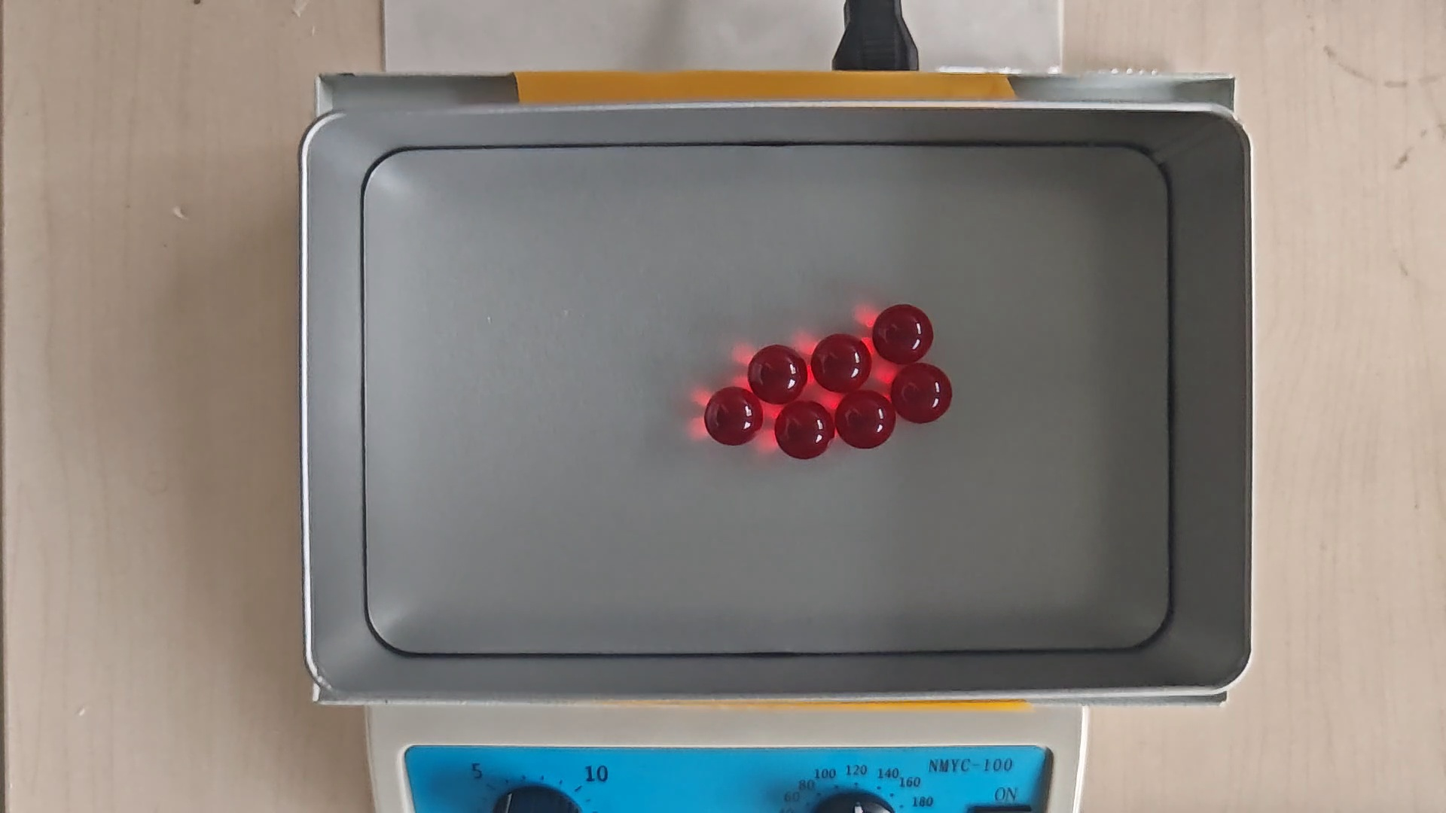ball: (889, 362, 953, 425), (810, 333, 870, 392), (836, 391, 895, 451), (750, 344, 807, 402), (875, 306, 932, 363), (706, 386, 760, 445), (779, 403, 832, 458)
container: (361, 146, 1173, 650)
